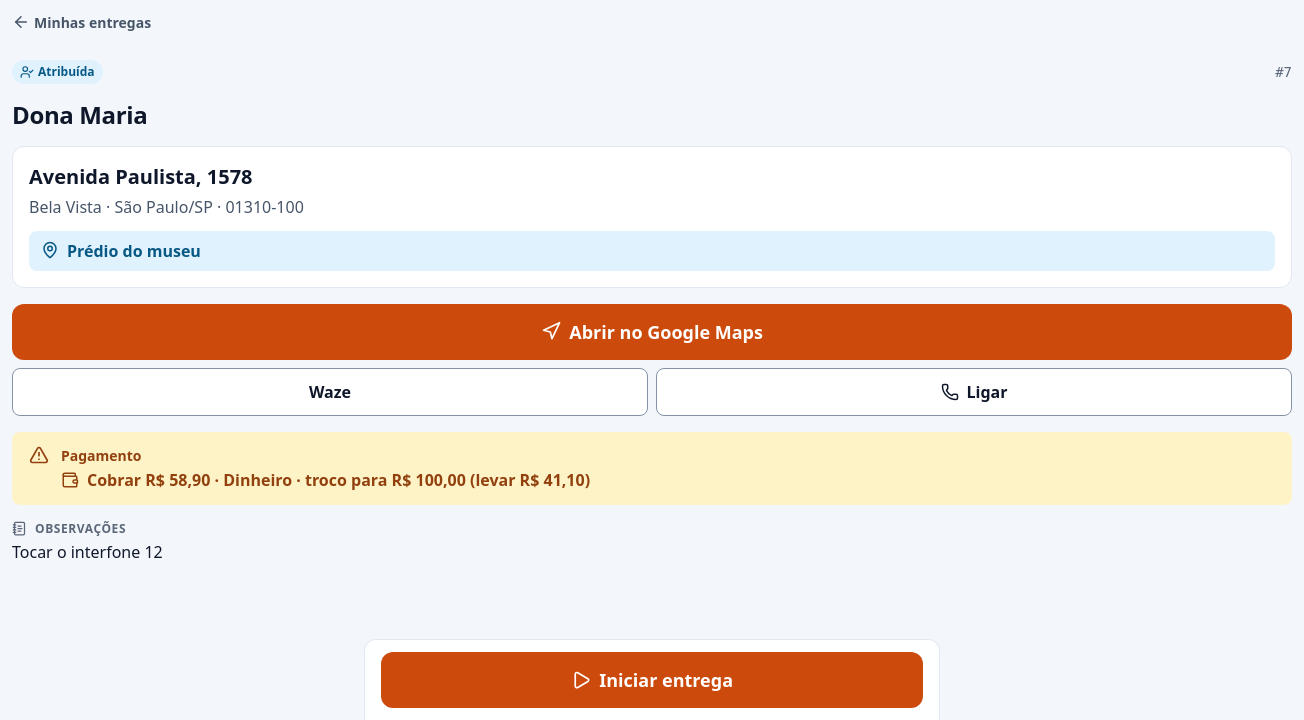
DelivererDeliveryPage › inicia a entrega e passa a oferecer finalizar
What coordinates should you click on to do the following:
click the button "Iniciar entrega"
I would click on:
 (652, 680)
Its box is [381,652,923,708].
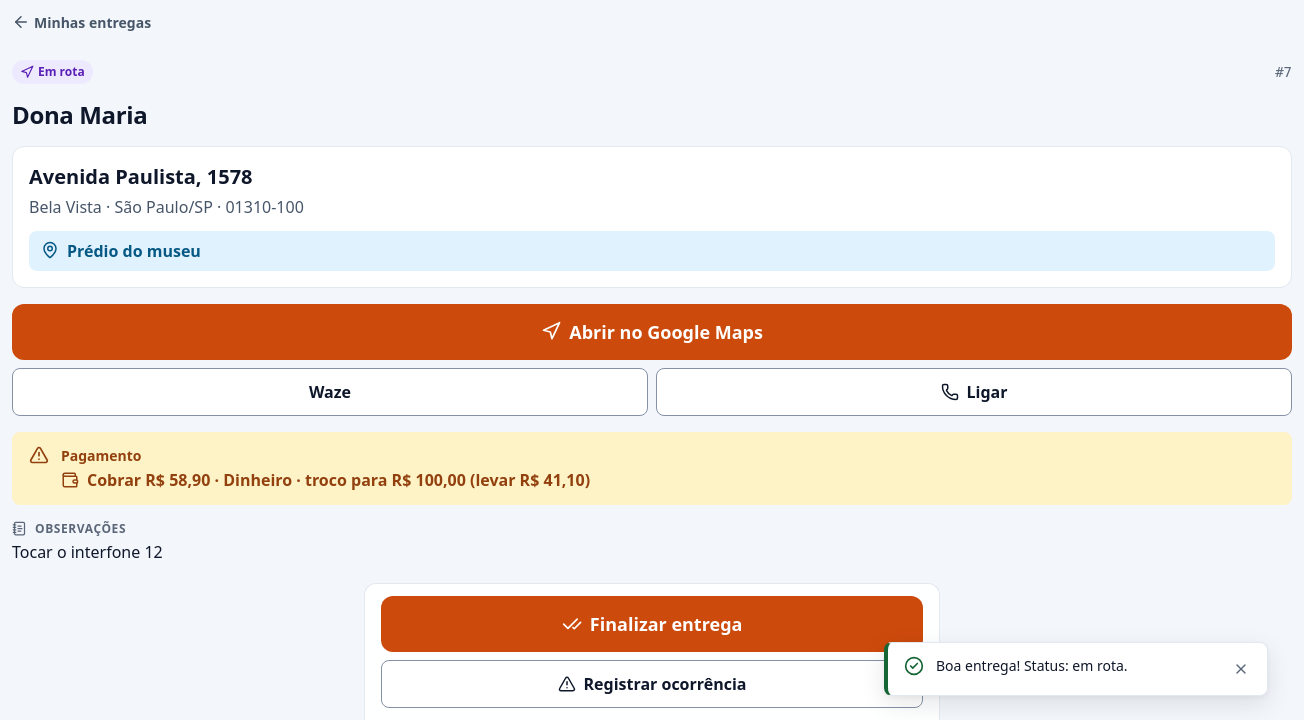
Expected: the button "Finalizar entrega" is shown, [381,596,923,652]
Expected: the button "Registrar ocorrência" is shown, [381,660,923,708]
